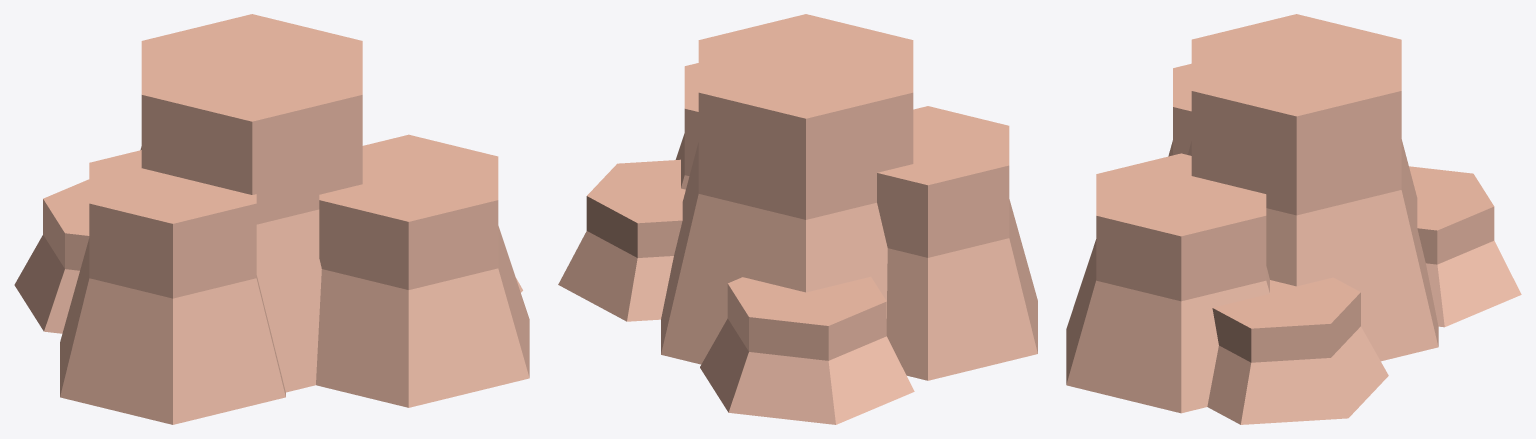
The model's file is rock_largeA.glb.
3 views of the same model, side by side, from view 1: azimuth 30°, elevation 25°; view 2: azimuth 150°, elevation 25°; view 3: azimuth 270°, elevation 25° (orthographic). The views are drawn at different scales.
Visible parts, largest first — view 1: rock_largeA; view 2: rock_largeA; view 3: rock_largeA.
Part boxes in pixels (x1,y1,x2,y2): rock_largeA: (14,14,529,424); rock_largeA: (558,14,1037,424); rock_largeA: (1066,14,1521,424).
Bounding box in the file's own units: 0.9193 × 0.5 × 0.8339.
